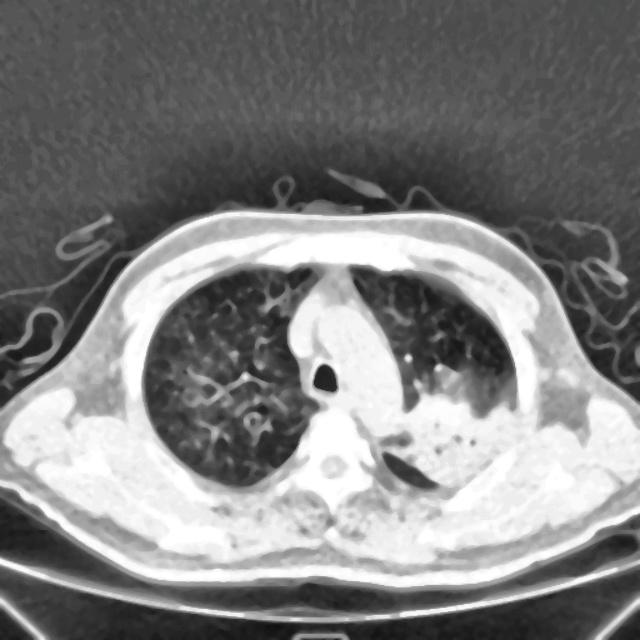covid: (0, 187, 639, 596)
